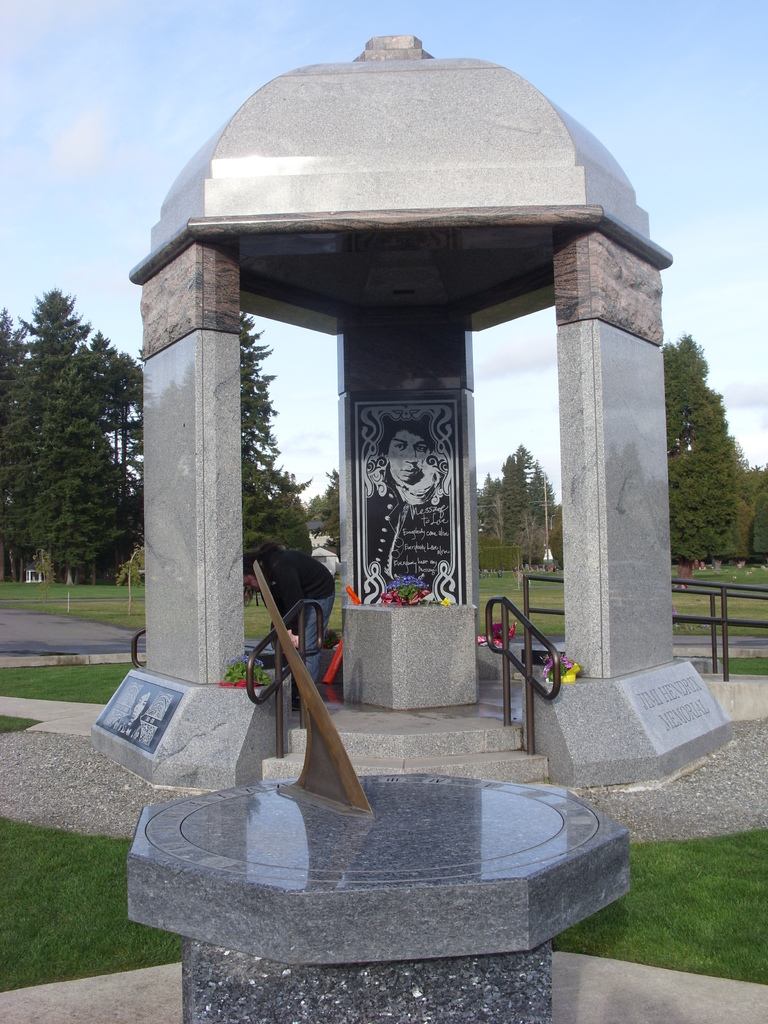person: (245, 534, 339, 725)
